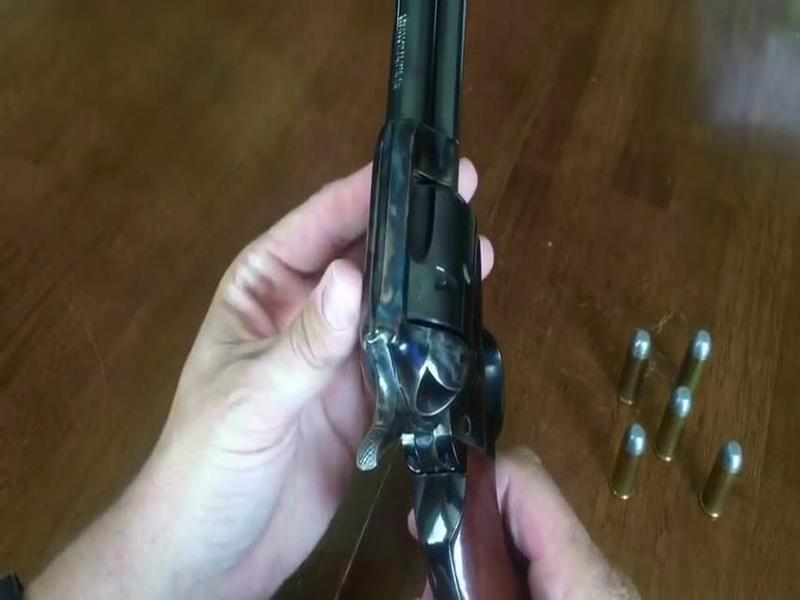Revolver: (347, 11, 576, 598)
